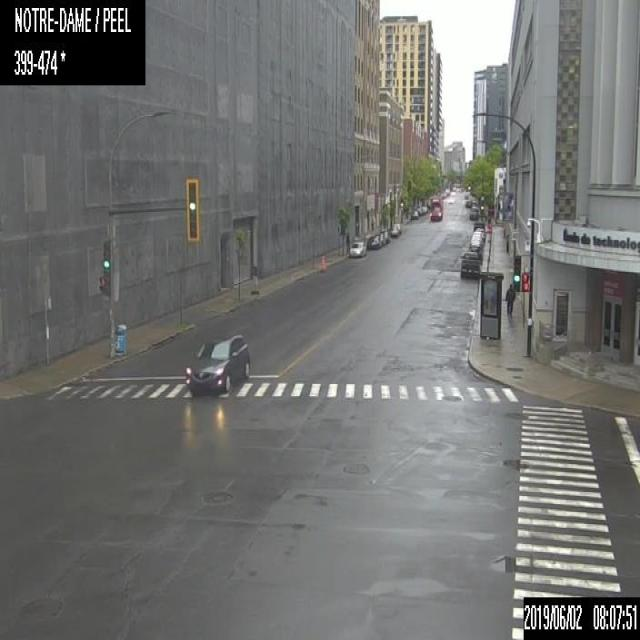construction: (319, 255, 325, 272)
pedestrian: (504, 283, 514, 313), (345, 232, 350, 255)
vehicle: (185, 329, 250, 395), (460, 252, 480, 278), (429, 195, 443, 220), (348, 240, 366, 258), (468, 245, 482, 264), (472, 227, 484, 241), (366, 236, 378, 250), (471, 233, 482, 245), (390, 222, 399, 235), (468, 209, 478, 220), (470, 205, 479, 214), (410, 209, 418, 218), (416, 206, 422, 214), (447, 197, 454, 203), (464, 200, 470, 206)
